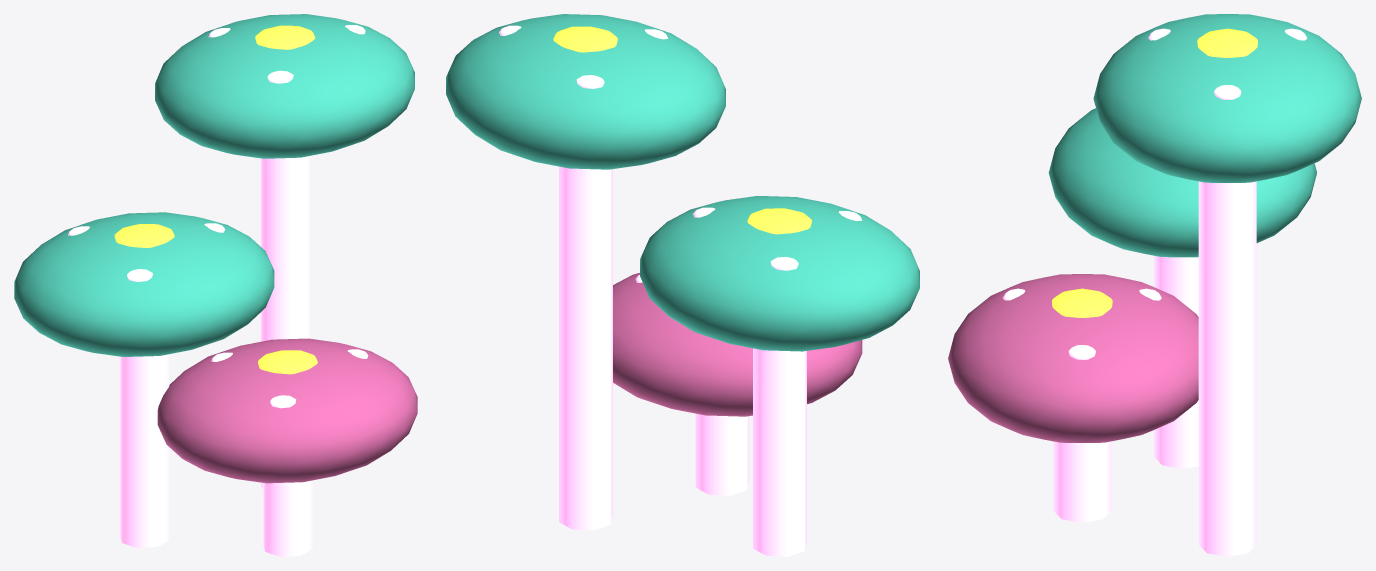
The model's file is moon_mushroom.glb.
The picture shows the model from 3 angles, left to right: view 1: azimuth 30°, elevation 25°; view 2: azimuth 150°, elevation 25°; view 3: azimuth 270°, elevation 25°; orthographic projection. The views are drawn at different scales.
Visible parts, largest first — view 1: GlowCap, GlowCap.002, CapFreckle, CapDot; view 2: GlowCap, CapFreckle, GlowCap.002, CapDot; view 3: GlowCap, GlowCap.002, CapFreckle, CapDot.
Part boxes in pixels (x1,y1,x2,y2): GlowCap: (14, 14, 414, 356); GlowCap.002: (157, 338, 417, 483); CapFreckle: (68, 25, 368, 556); CapDot: (114, 25, 317, 374); GlowCap: (446, 14, 919, 351); CapFreckle: (499, 25, 862, 556); GlowCap.002: (613, 273, 862, 416); CapDot: (553, 26, 811, 234); GlowCap: (1048, 14, 1361, 257); GlowCap.002: (948, 274, 1198, 442); CapFreckle: (1003, 28, 1306, 556); CapDot: (1052, 28, 1257, 317).
Size of the model in its own units: 2.29 by 2.5 by 1.85.
